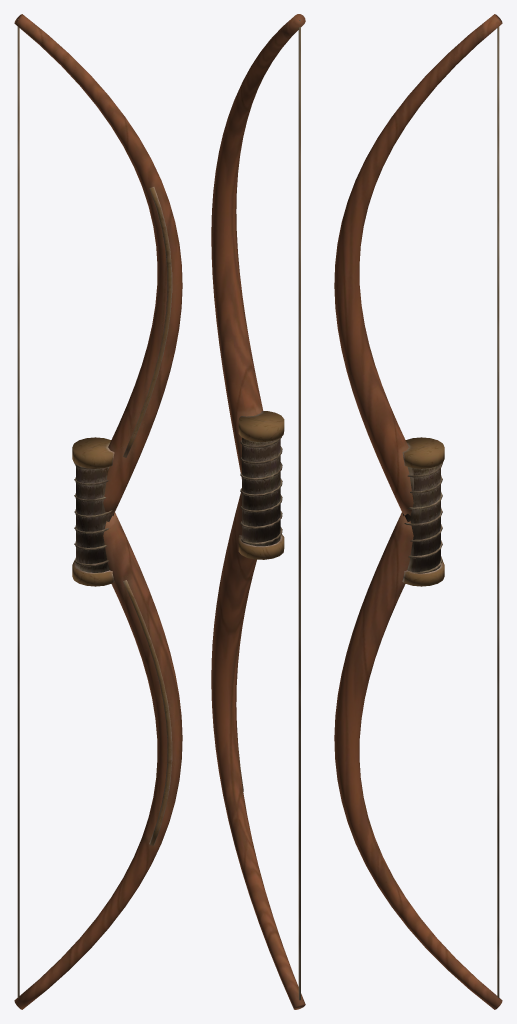
File: eq_bow_2.glb
3 renders of one model, left to right at view 1: azimuth 90°, elevation 25°; view 2: azimuth 210°, elevation 25°; view 3: azimuth 270°, elevation 25°, orthographic.
Parts seen in each view (by area): view 1: eq_bow_2; view 2: eq_bow_2; view 3: eq_bow_2.
Part boxes in pixels (<box>): eq_bow_2: <box>14,14,182,1009</box>; eq_bow_2: <box>211,14,305,1009</box>; eq_bow_2: <box>334,14,502,1009</box>.
Bounding box in the file's own units: 0.066 × 1.57 × 0.2412.
Materials: 1 (1 with a texture image).
